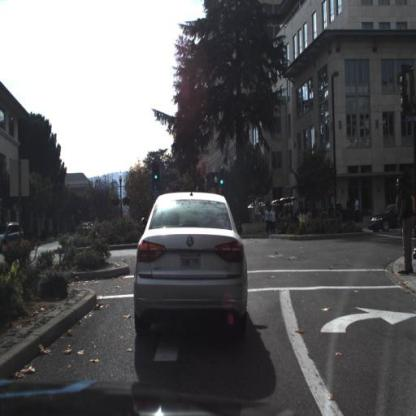car: (132, 189, 250, 340), (370, 198, 416, 231), (1, 220, 26, 256)
pedestrian: (393, 168, 413, 281)
trafficLight: (153, 159, 161, 183)
trafficLight-Green: (219, 167, 224, 188)
